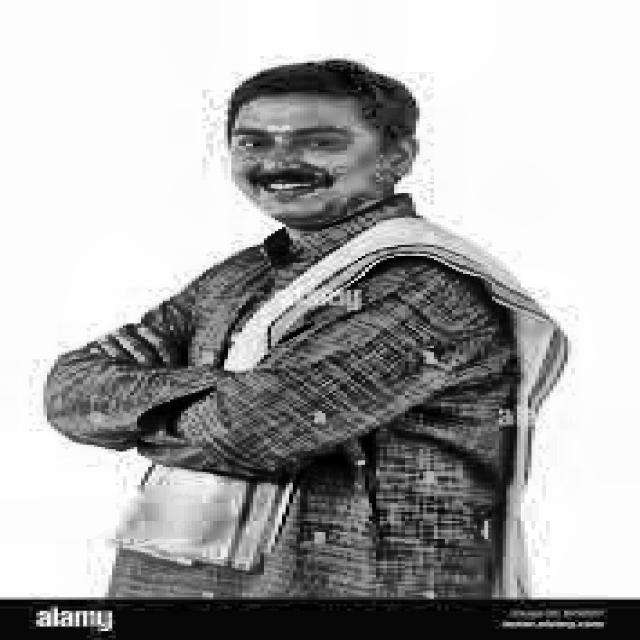Human: (64, 41, 558, 638)
